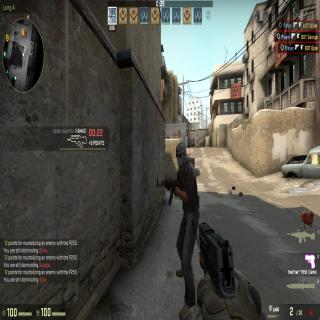T-Body: (172, 141, 200, 313)
T-Head: (175, 140, 188, 170)
